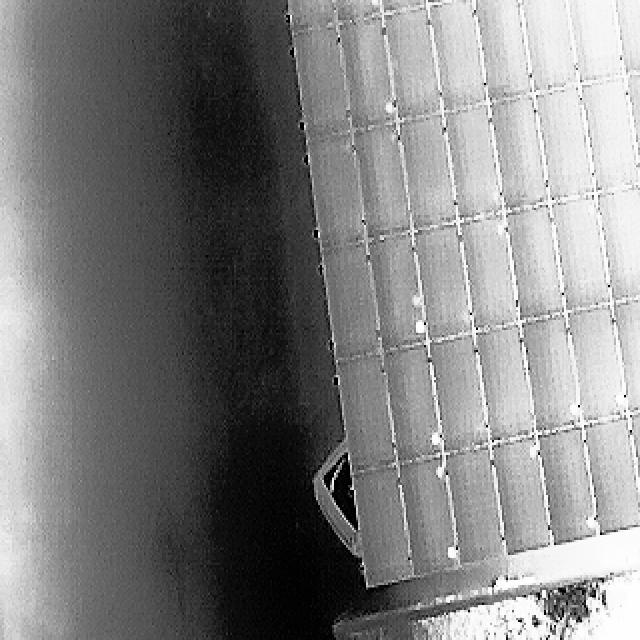Hotspots: (611, 382, 633, 420), (562, 398, 584, 432), (426, 427, 444, 454), (379, 92, 396, 120), (442, 540, 461, 564), (413, 317, 430, 340), (580, 511, 598, 531), (526, 443, 540, 463)
PV-modules: (440, 443, 515, 570), (394, 454, 464, 577), (424, 334, 492, 459), (471, 322, 540, 443), (499, 205, 568, 326), (518, 312, 586, 434), (457, 214, 525, 336), (532, 84, 601, 204), (334, 351, 400, 476), (350, 462, 416, 587), (291, 20, 358, 143), (562, 303, 630, 424), (410, 223, 478, 344), (319, 238, 386, 360), (548, 191, 616, 311), (487, 436, 555, 556), (363, 229, 428, 353), (382, 344, 448, 466), (486, 92, 552, 214), (422, 0, 490, 118), (382, 5, 448, 125), (574, 75, 640, 195), (536, 428, 603, 546), (440, 102, 506, 221), (349, 123, 414, 243), (398, 116, 462, 237), (335, 14, 400, 132), (306, 133, 371, 251), (578, 418, 640, 538), (470, 0, 538, 100), (518, 0, 586, 92), (592, 180, 640, 300), (564, 0, 627, 85), (606, 290, 640, 415), (620, 68, 640, 188), (612, 0, 640, 75), (624, 405, 640, 527), (284, 0, 342, 30), (333, 0, 385, 26), (378, 0, 433, 20)
